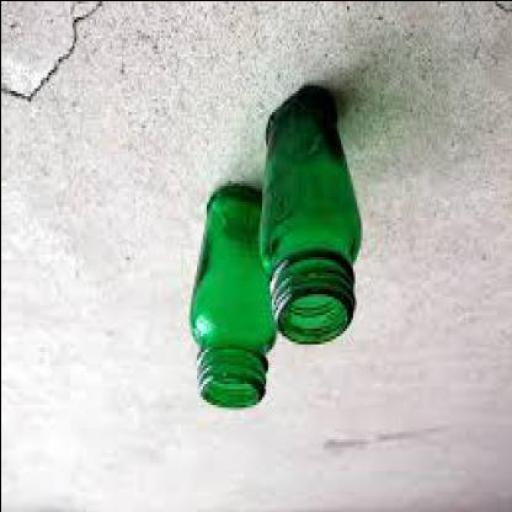glass: (263, 87, 362, 346), (191, 185, 279, 412)
